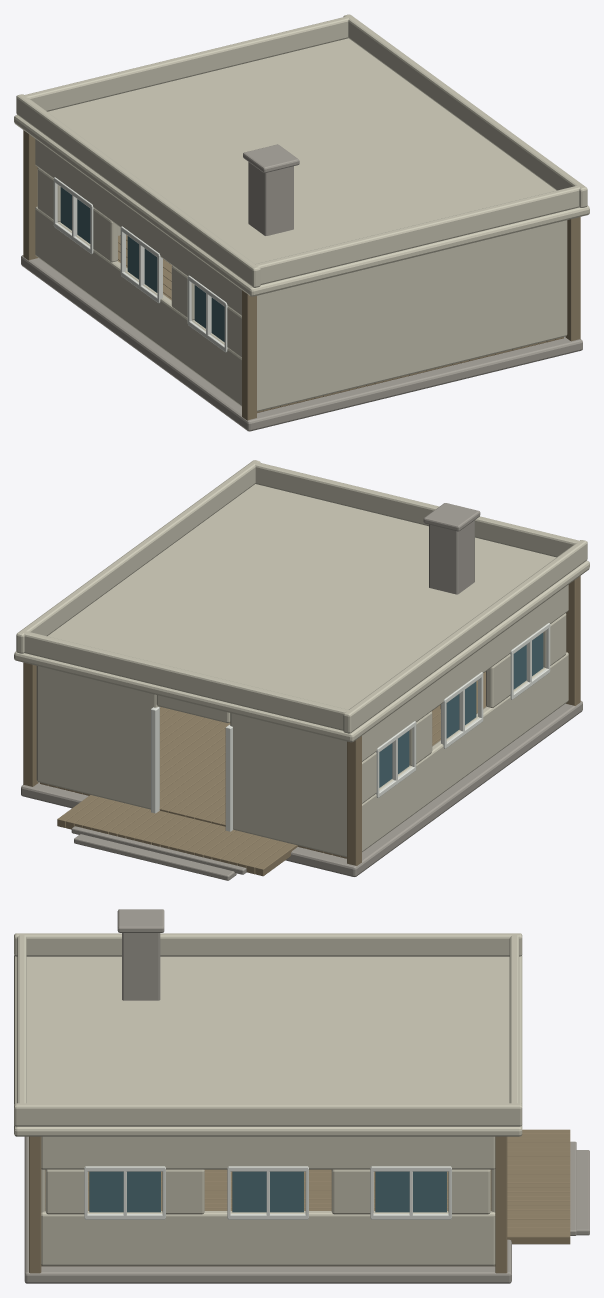
File: SM_AdobeHouse.glb
3 views of the same model, one above another, from view 1: azimuth 30°, elevation 25°; view 2: azimuth 150°, elevation 25°; view 3: azimuth 270°, elevation 25° (orthographic). The views are drawn at different scales.
Visible parts, largest first — view 1: SM_AdobeHouse; view 2: SM_AdobeHouse; view 3: SM_AdobeHouse.
Part boxes in pixels (<box>): SM_AdobeHouse: <box>14,14,589,431</box>; SM_AdobeHouse: <box>14,460,589,880</box>; SM_AdobeHouse: <box>14,909,589,1283</box>.
Bounding box in the file's own units: 7.9 × 4.85 × 10.88.
